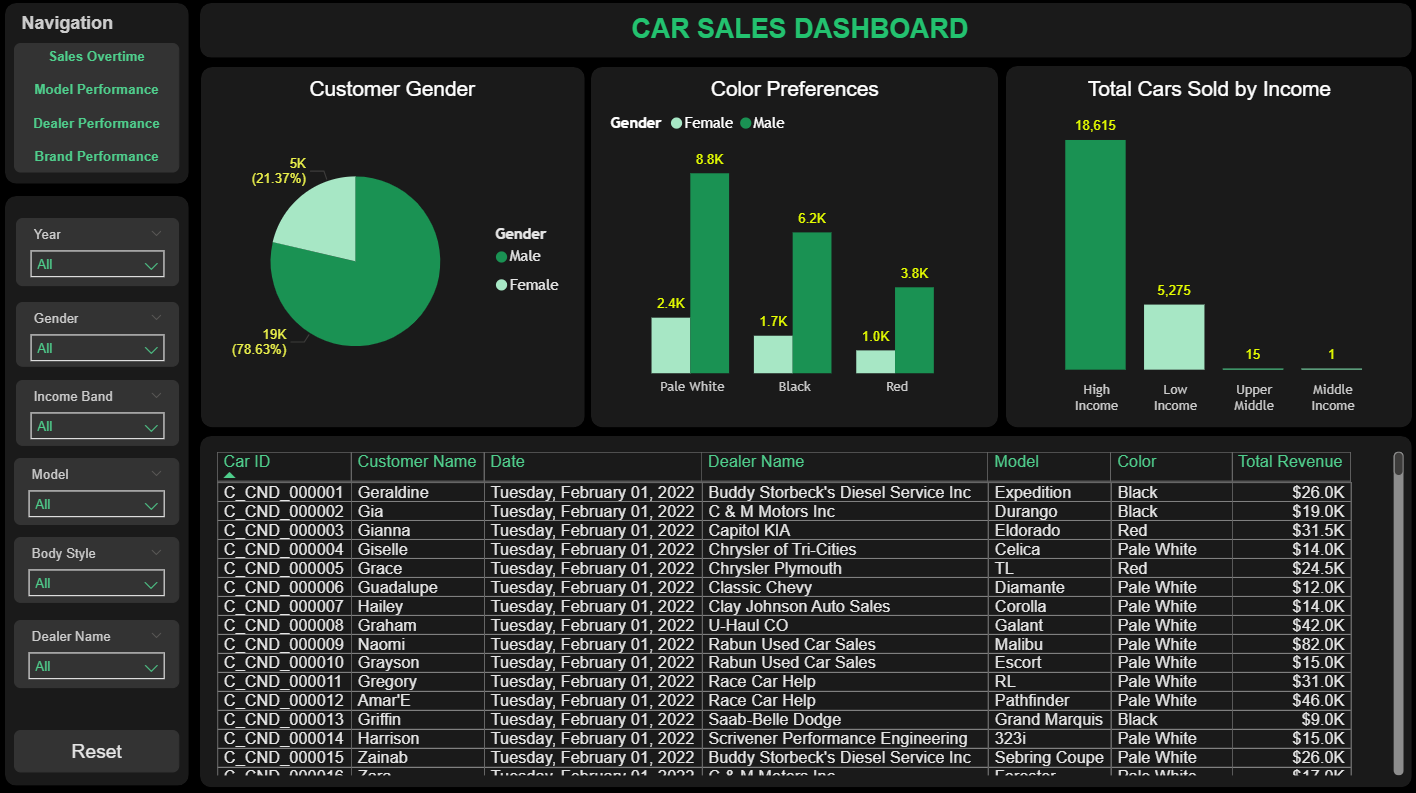

What the dashboard file says about the page in this screenshot:
{"tool":"powerbi","page":{"name":"Customers Overview","canvas":[1280,720],"ordinal":4},"visuals":[{"type":"shape","box":[8.2,179.1,164.5,528.2],"z":0},{"type":"shape","box":[904.5,62.7,363.6,323.6],"z":1000},{"type":"shape","box":[532.7,63.6,364.5,322.7],"z":2000},{"type":"shape","box":[183.6,63.6,343.6,322.7],"z":3000},{"type":"shape","box":[182.7,393.6,1085.5,314.5],"z":4000},{"type":"tableEx","fields":{"Values":["Sales.Car_id","Customer.Customer Name","Sales.Date","Sales.Dealer_Name","Car Model.Model","Car Model.Color","Measrure.Total Revenue"]},"box":[191.8,402.7,1073.6,300],"z":5000},{"type":"slicer","fields":{"Values":["DateTable.Year"]},"box":[18.2,199.1,146.4,60.9],"z":6000},{"type":"slicer","fields":{"Values":["Car Model.Model"]},"box":[16.4,413.6,148.2,60],"z":7000},{"type":"slicer","fields":{"Values":["Car Model.Body Style"]},"box":[16.5,484.4,147.8,59.3],"z":8000},{"type":"slicer","fields":{"Values":["Dealer.Dealer_Name"]},"box":[16.4,559.1,148.2,60.9],"z":9000},{"type":"pieChart","title":"Customer Gender","fields":{"Y":["CountNonNull(Customer.Customer Name)"],"Category":["Customer.Gender"]},"box":[183.6,72.5,343.9,313.4],"z":10000},{"type":"clusteredColumnChart","title":" Color Preferences","fields":{"Y":["Measrure.Total Cars Sold"],"Series":["Customer.Gender"],"Category":["Car Model.Color"]},"box":[532.8,72.5,364.5,313.4],"z":11000},{"type":"columnChart","title":"Total Cars Sold by Income","fields":{"Y":["Car Sales Datasets.Total Cars Sold"],"Category":["Customer.Income Band"]},"box":[904.5,72.5,360.9,313.4],"z":12000},{"type":"slicer","fields":{"Values":["Customer.Income Band"]},"box":[18.2,343.6,146.4,59.1],"z":13000},{"type":"slicer","fields":{"Values":["Customer.Gender"]},"box":[18.2,273.6,146.4,58.2],"z":14000},{"type":"shape","box":[182.7,6.4,1085.5,49.1],"z":15000},{"type":"textbox","box":[564.5,10.9,320.9,39.1],"z":16000},{"type":"actionButton","box":[16.4,657.3,148.2,38.2],"z":17000},{"type":"shape","box":[8.2,6.4,164.5,161.8],"z":18000},{"type":"pageNavigator","box":[16.4,41.8,148.2,116.4],"z":19000},{"type":"textbox","box":[18.2,10.9,91.8,29.1],"z":20000}]}

Visuals, with their boxes on the page's 1280x720 design canvas (x1, y1, x2, y2). These are canvas units, not pixel positions in the 1416x793 screenshot, which may show the page scaled, cropped or inside an application window:
shape: bbox=(8, 179, 173, 707)
shape: bbox=(904, 63, 1268, 386)
shape: bbox=(533, 64, 897, 386)
shape: bbox=(184, 64, 527, 386)
shape: bbox=(183, 394, 1268, 708)
tableEx - Sales.Car_id x Customer.Customer Name: bbox=(192, 403, 1265, 703)
slicer - DateTable.Year: bbox=(18, 199, 165, 260)
slicer - Car Model.Model: bbox=(16, 414, 165, 474)
slicer - Car Model.Body Style: bbox=(16, 484, 164, 544)
slicer - Dealer.Dealer_Name: bbox=(16, 559, 165, 620)
"Customer Gender" pieChart: bbox=(184, 72, 528, 386)
" Color Preferences" clusteredColumnChart: bbox=(533, 72, 897, 386)
"Total Cars Sold by Income" columnChart: bbox=(904, 72, 1265, 386)
slicer - Customer.Income Band: bbox=(18, 344, 165, 403)
slicer - Customer.Gender: bbox=(18, 274, 165, 332)
shape: bbox=(183, 6, 1268, 56)
textbox: bbox=(564, 11, 885, 50)
actionButton: bbox=(16, 657, 165, 696)
shape: bbox=(8, 6, 173, 168)
pageNavigator: bbox=(16, 42, 165, 158)
textbox: bbox=(18, 11, 110, 40)
